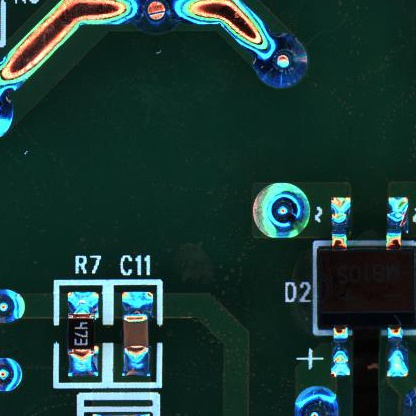spot: (251, 33, 310, 91), (251, 183, 310, 240), (129, 1, 187, 38)
